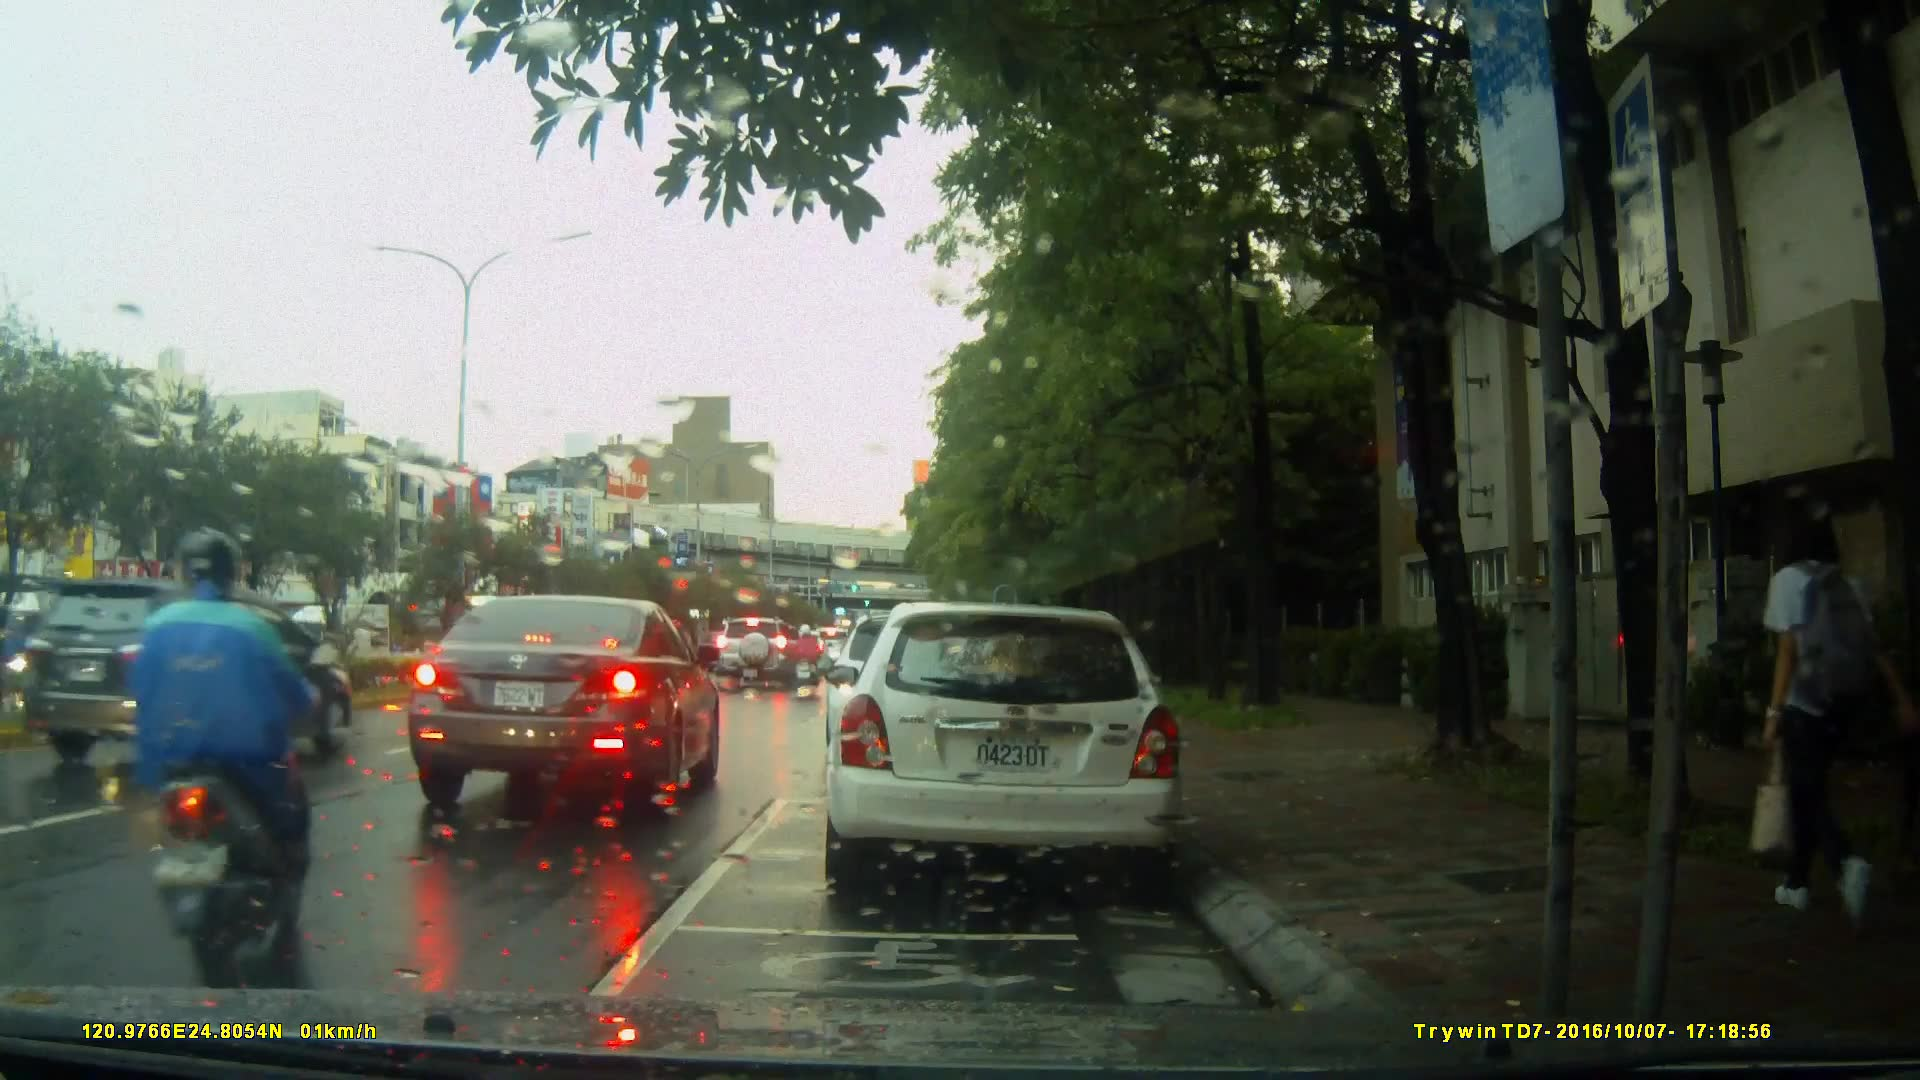pedestrian: (1745, 500, 1898, 923)
rider: (133, 528, 337, 969), (790, 623, 828, 703)
vehicle: (820, 602, 1188, 898), (406, 593, 724, 819), (31, 576, 355, 760), (717, 617, 804, 693)
